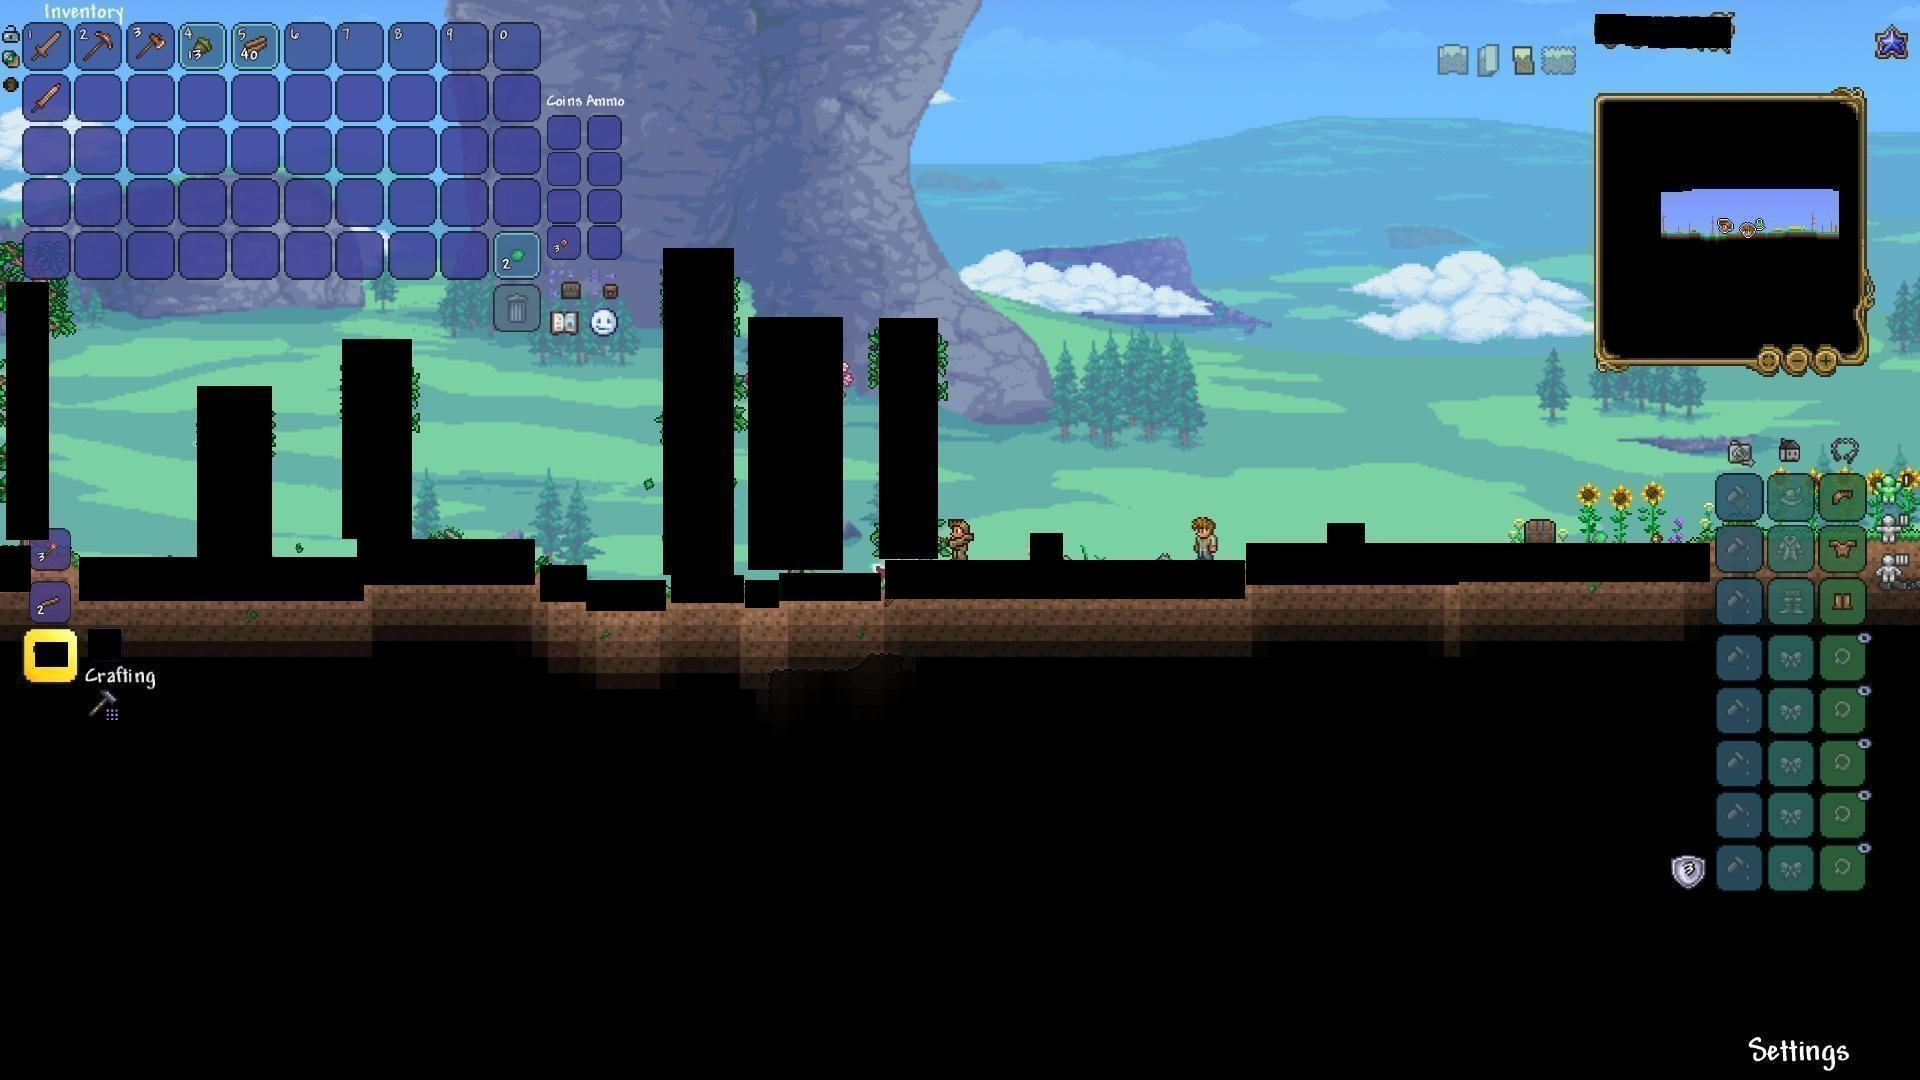breastplate: (1830, 538, 1859, 560)
helmet: (1829, 483, 1859, 509)
legs: (1832, 588, 1855, 616)
wood: (239, 29, 272, 59)
